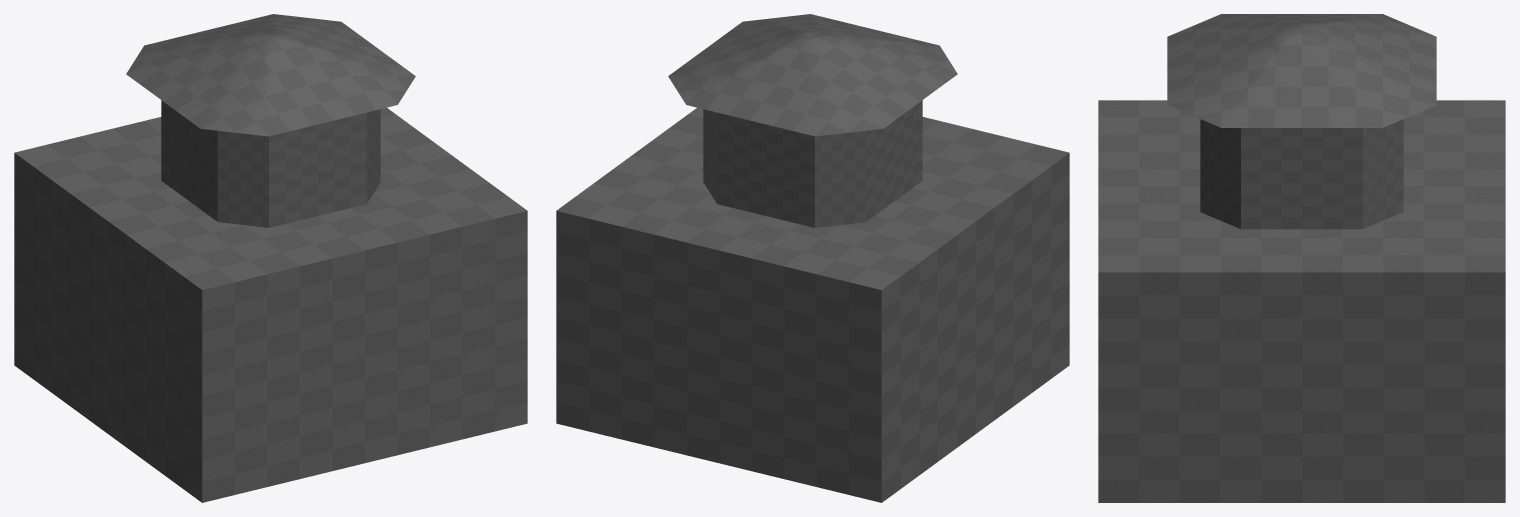
File: SM_Pier_Building.fbx
3 renders of one model, left to right at view 1: azimuth 30°, elevation 25°; view 2: azimuth 150°, elevation 25°; view 3: azimuth 270°, elevation 25°, orthographic. The views are drawn at different scales.
Parts seen in each view (by area): view 1: SM_Pier_Building; view 2: SM_Pier_Building; view 3: SM_Pier_Building.
Boxes of the visible parts, left/top/right/bottom form: SM_Pier_Building: left=14, top=14, right=527, bottom=502; SM_Pier_Building: left=556, top=14, right=1069, bottom=502; SM_Pier_Building: left=1098, top=14, right=1505, bottom=502.
Bounding box in the file's own units: 800 × 800 × 838.
1 material, 1 textured.
